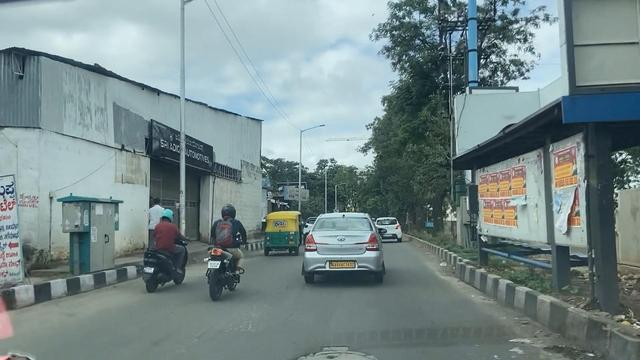LMV: (303, 213, 380, 273), (205, 205, 244, 289), (144, 209, 180, 292), (266, 213, 298, 257), (387, 219, 402, 242)
RoadDamages: (537, 317, 607, 360), (298, 338, 385, 360)
